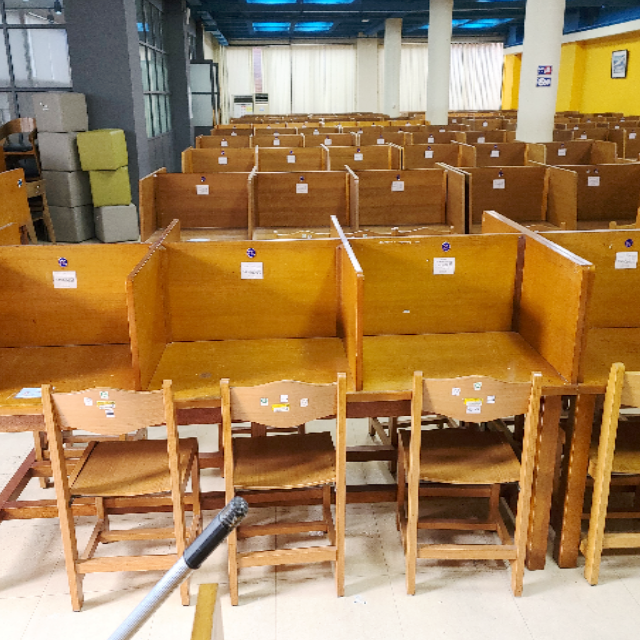empty: (145, 227, 358, 480), (364, 219, 581, 454), (1, 228, 138, 490)
